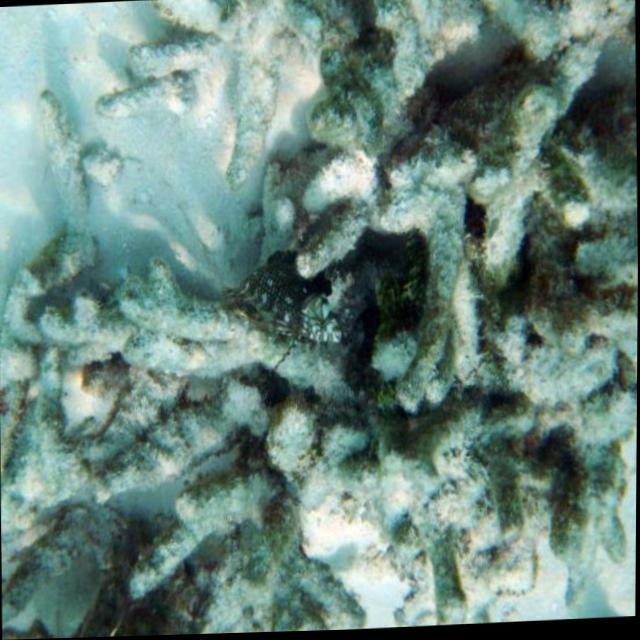Dead Coral: (125, 0, 640, 591), (0, 217, 262, 542)
